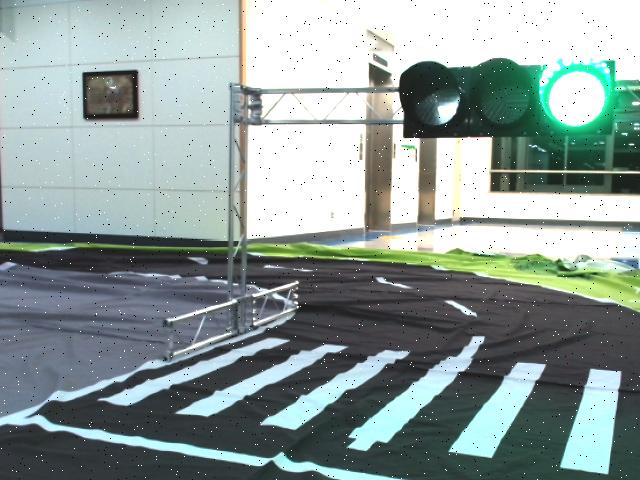crosswalk: (92, 334, 640, 480)
traffic light-green-: (397, 60, 616, 134)
